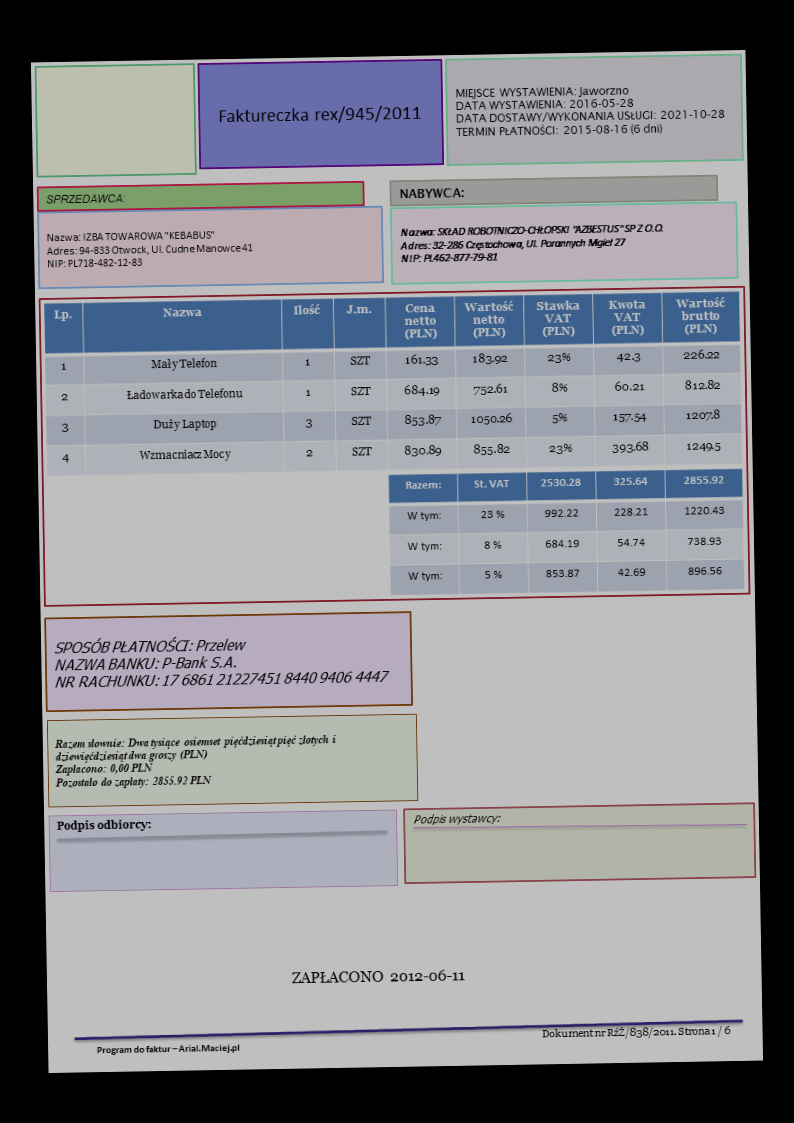Table: (42, 290, 743, 478), (387, 467, 746, 597)
TextBox: (53, 633, 390, 693), (52, 731, 339, 790), (453, 81, 727, 141), (397, 221, 665, 266), (43, 226, 255, 270), (214, 102, 422, 129), (540, 1022, 733, 1044), (287, 967, 466, 987), (94, 1041, 242, 1056), (54, 816, 154, 834), (411, 810, 501, 828), (43, 190, 127, 207), (397, 184, 465, 202)
